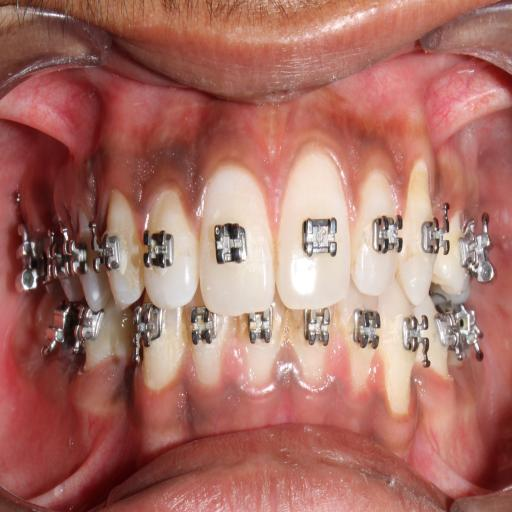correct_brace: (298, 214, 341, 263), (210, 217, 249, 269), (142, 225, 176, 273), (372, 209, 404, 257), (420, 212, 452, 260), (91, 232, 122, 276)
incorrect_brace: (142, 191, 198, 307), (353, 165, 399, 295)
